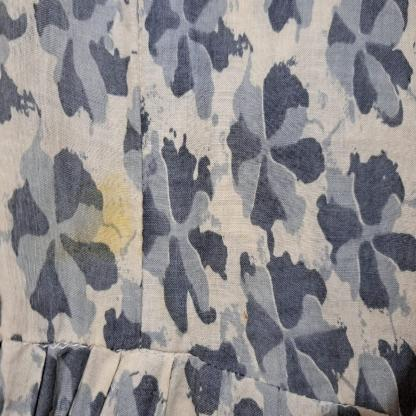spot: (100, 172, 133, 260), (56, 225, 85, 267), (84, 186, 101, 252), (136, 201, 143, 257), (160, 291, 171, 318), (242, 306, 248, 322)
